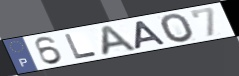6: (34, 36, 64, 66)
7: (188, 5, 221, 39)
A: (100, 24, 140, 58), (133, 19, 169, 51)
L: (63, 32, 100, 60)
O: (159, 12, 196, 45)
